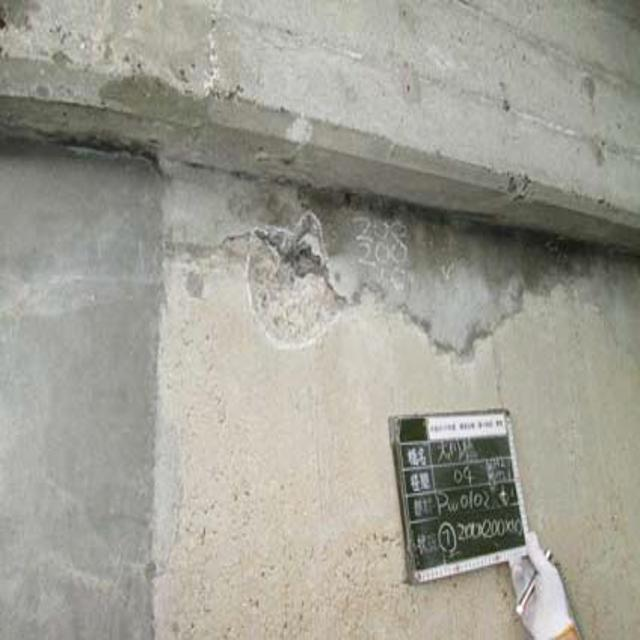spalling: (240, 202, 351, 357)
